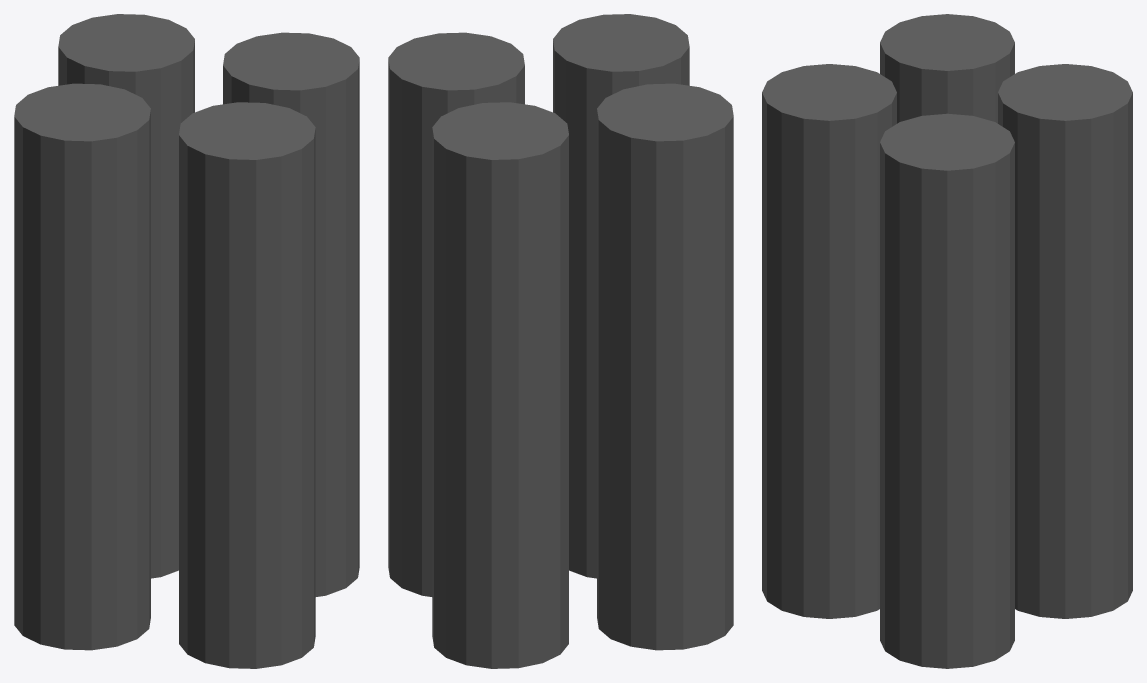
The model's file is SM_boolean_cutters.fbx.
3 views of the same model, side by side, from view 1: azimuth 30°, elevation 25°; view 2: azimuth 150°, elevation 25°; view 3: azimuth 270°, elevation 25° (orthographic). The views are drawn at different scales.
Visible parts, largest first — view 1: Cylinder.007; view 2: Cylinder.007; view 3: Cylinder.007.
Boxes of the visible parts, x1,y1,x2,y2 form: Cylinder.007: (14, 14, 359, 668); Cylinder.007: (388, 14, 733, 668); Cylinder.007: (762, 14, 1132, 668).
Size of the model in its own units: 1.25 by 1.86 by 1.25.
Materials: 1 (1 with a texture image).
